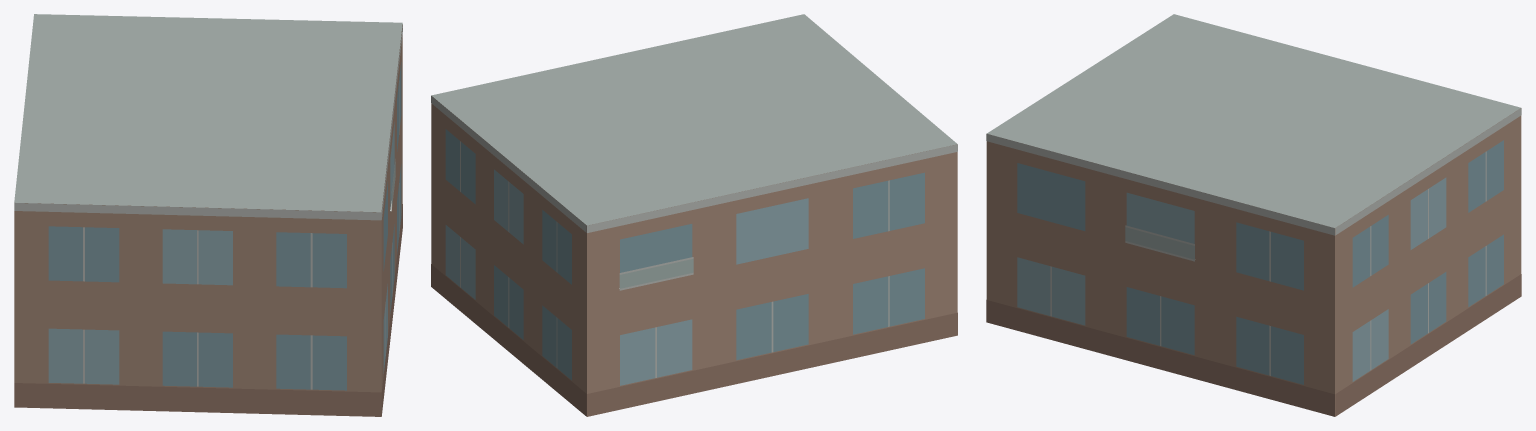
The model's file is survey-upis-32891175.glb.
The picture shows the model from 3 angles, left to right: view 1: azimuth 30°, elevation 25°; view 2: azimuth 150°, elevation 25°; view 3: azimuth 270°, elevation 25°; orthographic projection. The views are drawn at different scales.
Parts seen in each view (by area): view 1: survey-upis-32891175.tmp; view 2: survey-upis-32891175.tmp; view 3: survey-upis-32891175.tmp.
Boxes of the visible parts, <box> form: survey-upis-32891175.tmp: <box>14,14,402,416</box>; survey-upis-32891175.tmp: <box>431,14,957,416</box>; survey-upis-32891175.tmp: <box>986,14,1521,416</box>.
Bounding box in the file's own units: 14.86 × 6.1 × 15.68.
